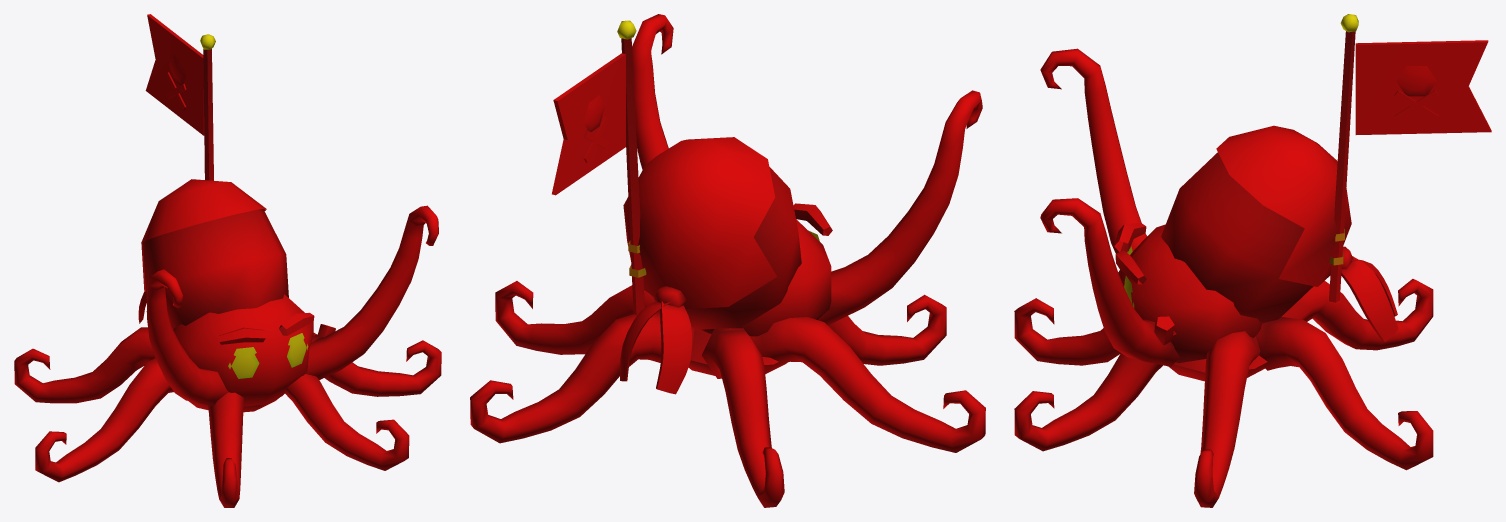
The model's file is Kraken_LOD1.glb.
3 views of the same model, side by side, from view 1: azimuth 30°, elevation 25°; view 2: azimuth 150°, elevation 25°; view 3: azimuth 270°, elevation 25° (orthographic). The views are drawn at different scales.
Parts seen in each view (by area): view 1: Kraken_LOD1; view 2: Kraken_LOD1; view 3: Kraken_LOD1.
Boxes of the visible parts, left/top/right/bottom form: Kraken_LOD1: left=14, top=14, right=441, bottom=507; Kraken_LOD1: left=470, top=14, right=985, bottom=507; Kraken_LOD1: left=1014, top=14, right=1491, bottom=507.
Size of the model in its own units: 2.63 by 2.18 by 2.31.
